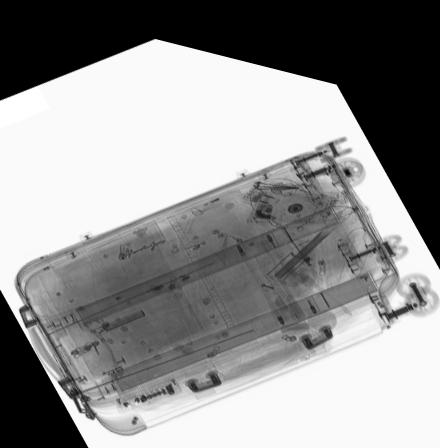Lighter: (193, 184, 220, 200)
